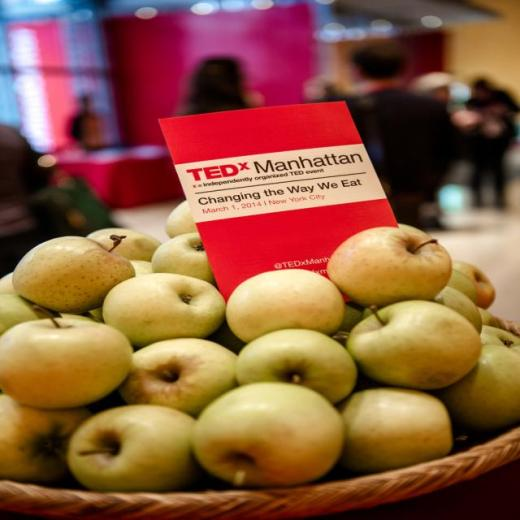Apple: (0, 195, 519, 498)
